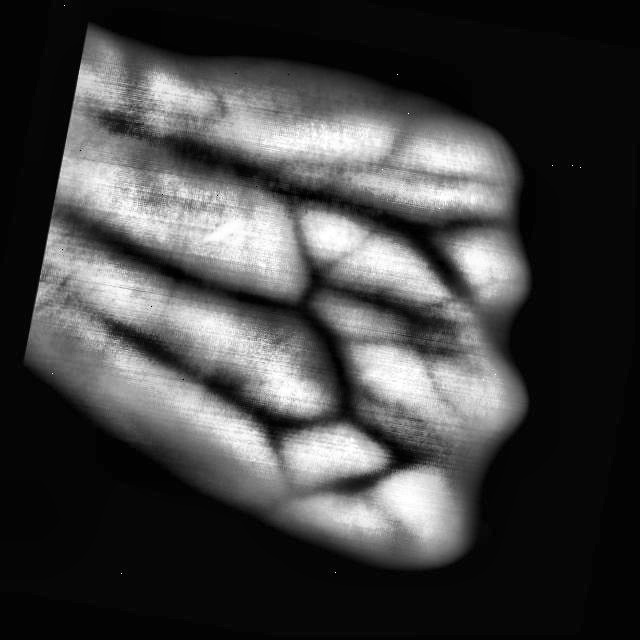Vein: (113, 112, 347, 215), (81, 216, 299, 326)
